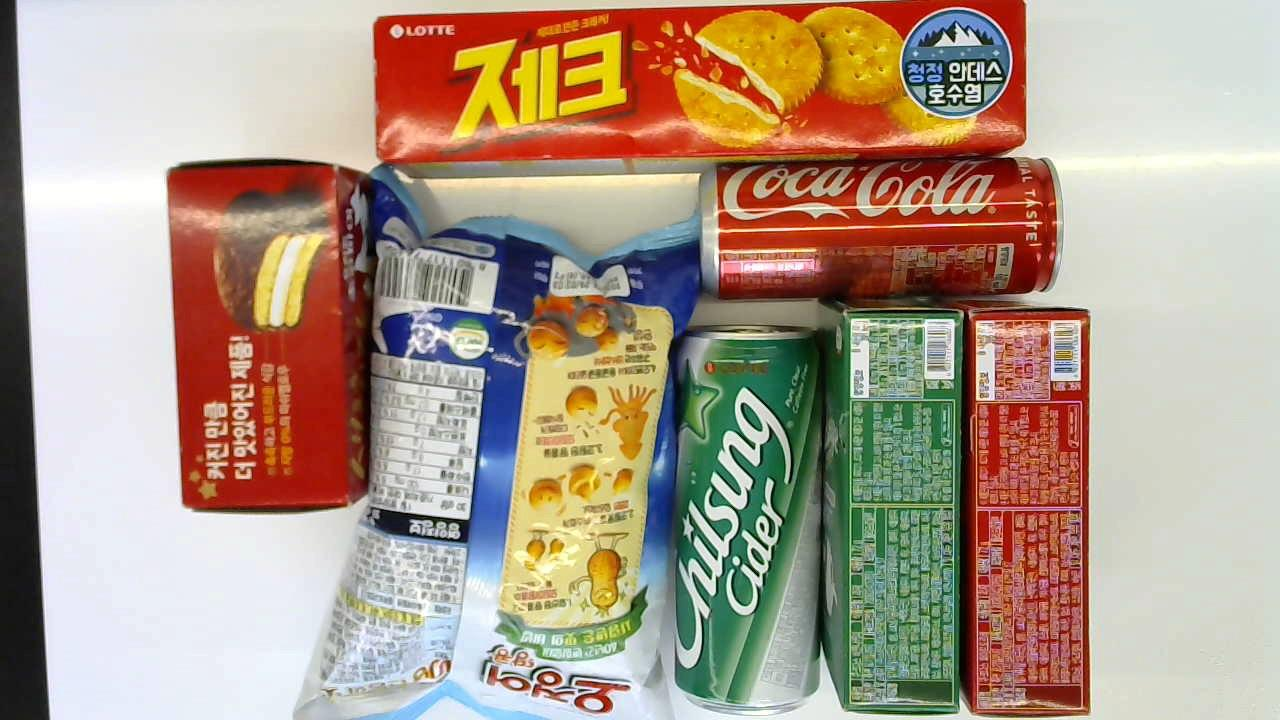chocopie: (164, 157, 380, 514)
cidar: (669, 321, 825, 711)
coke: (702, 159, 1058, 298)
couque_coffee: (818, 302, 959, 716)
couque_white: (961, 300, 1088, 720)
squid_peanut: (290, 169, 706, 716)
zec: (372, 0, 1050, 179)
